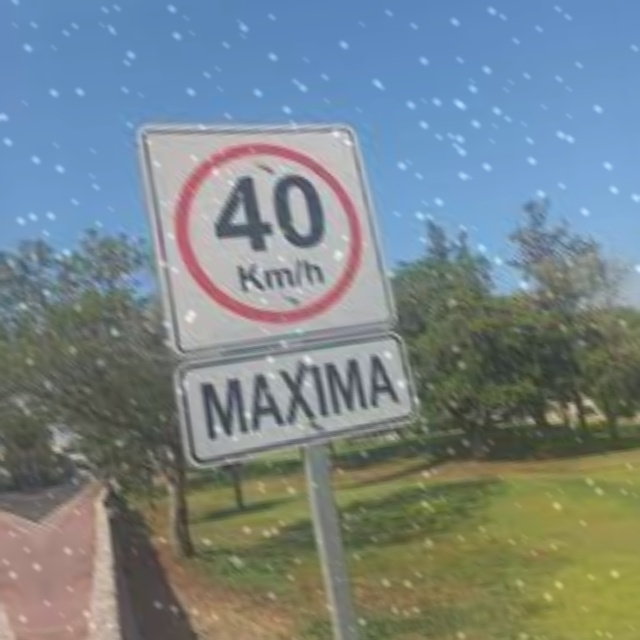Speed_Limit_40: (156, 113, 388, 348)
